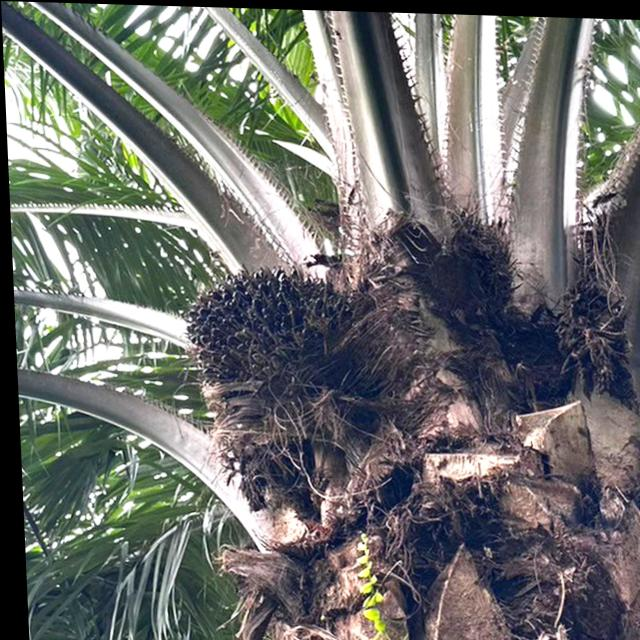unripe: (170, 258, 359, 406)
